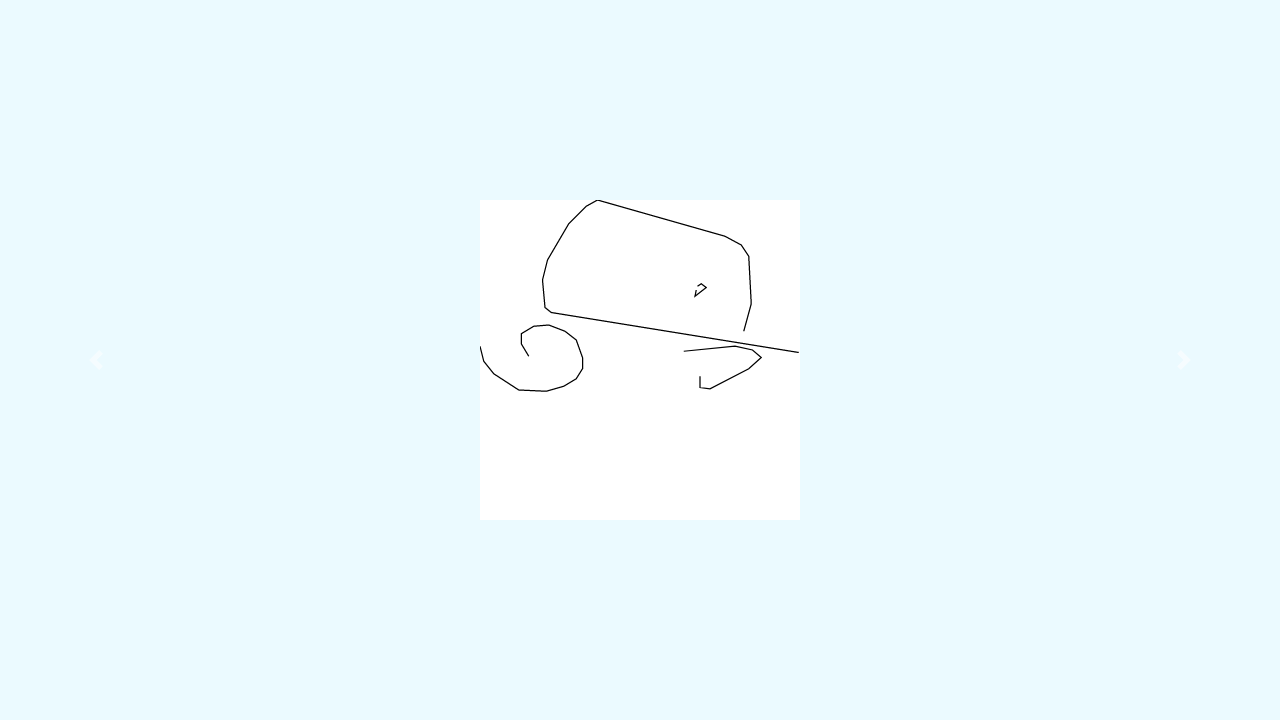car: (473, 194, 805, 393)
